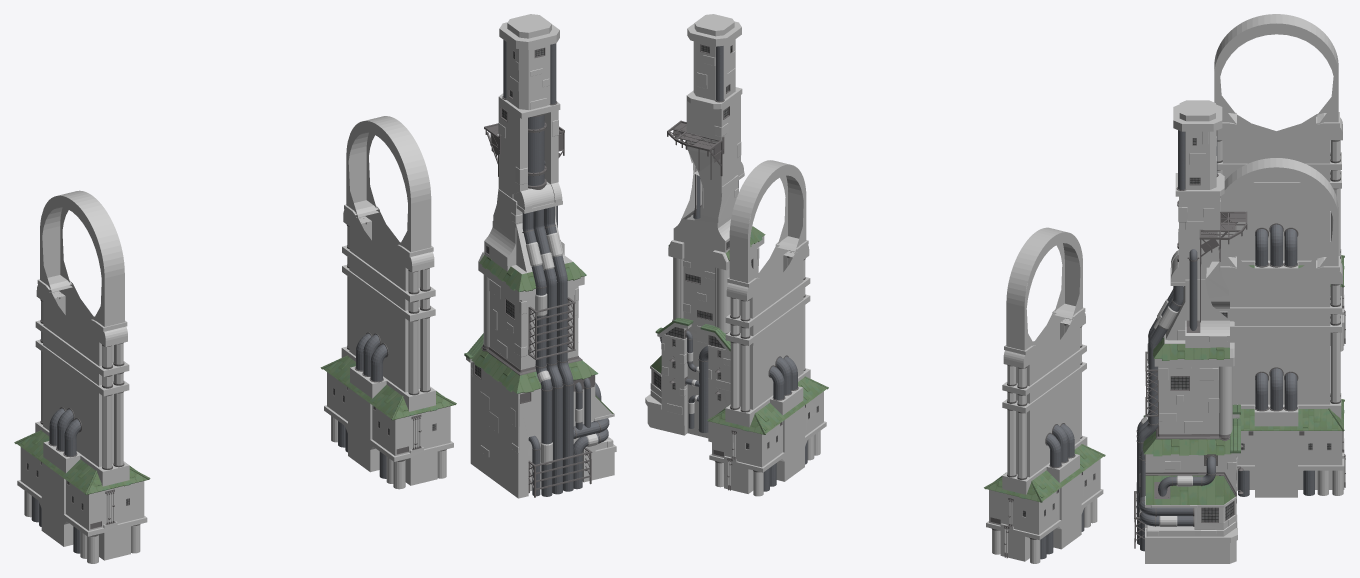
The model's file is AreaJ_PipePillar_B.fbx.
3 views of the same model, side by side, from view 1: azimuth 30°, elevation 25°; view 2: azimuth 150°, elevation 25°; view 3: azimuth 270°, elevation 25° (orthographic). The views are drawn at different scales.
Parts seen in each view (by area): view 1: SM_ENV_AMVLLG02_AreaJ_PipePillar_B.mo; view 2: SM_ENV_AMVLLG02_AreaJ_PipePillar_B.mo; view 3: SM_ENV_AMVLLG02_AreaJ_PipePillar_B.mo.
Boxes of the visible parts, x1=… form: SM_ENV_AMVLLG02_AreaJ_PipePillar_B.mo: x1=14, y1=14, x2=616, y2=563; SM_ENV_AMVLLG02_AreaJ_PipePillar_B.mo: x1=645, y1=14, x2=1105, y2=563; SM_ENV_AMVLLG02_AreaJ_PipePillar_B.mo: x1=1134, y1=14, x2=1345, y2=563.
Bounding box in the file's own units: 7729 × 6639 × 2952.
